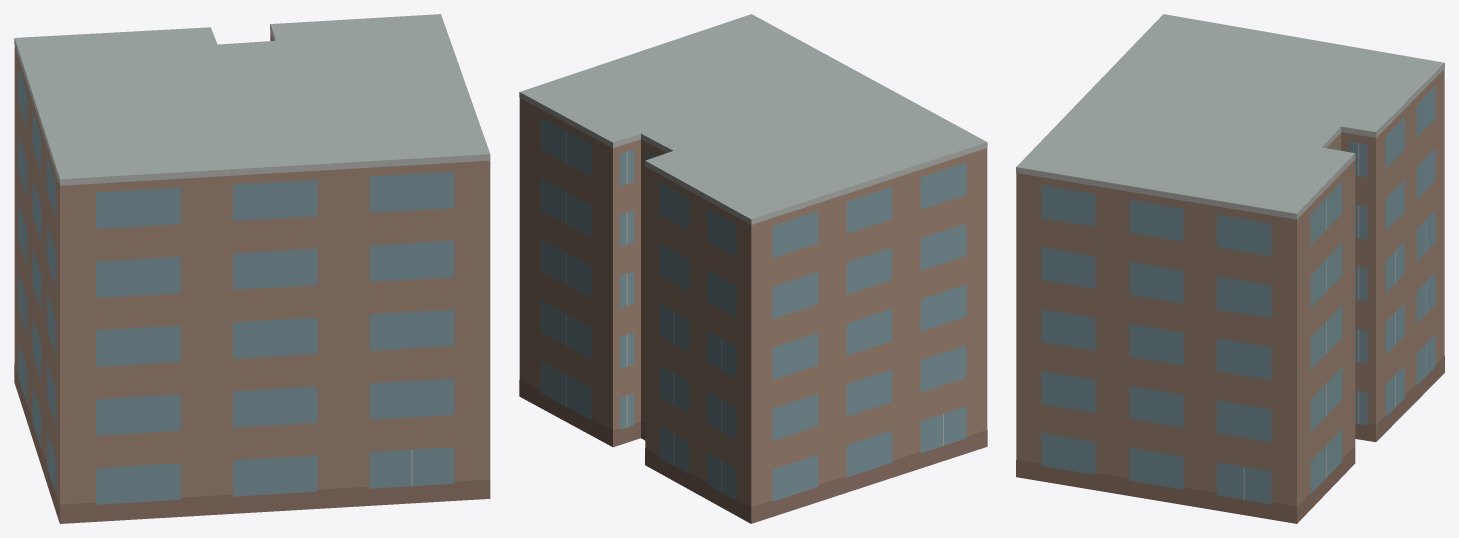
Rendered from survey-upis-32526396.glb.
3 renders of one model, left to right at view 1: azimuth 30°, elevation 25°; view 2: azimuth 150°, elevation 25°; view 3: azimuth 270°, elevation 25°, orthographic. The views are drawn at different scales.
Parts seen in each view (by area): view 1: survey-upis-32526396.tmp; view 2: survey-upis-32526396.tmp; view 3: survey-upis-32526396.tmp.
Part boxes in pixels (x1,y1,x2,y2): survey-upis-32526396.tmp: (14,14,490,523); survey-upis-32526396.tmp: (519,14,987,523); survey-upis-32526396.tmp: (1016,14,1444,523).
Size of the model in its own units: 18.12 by 13.1 by 16.43.
